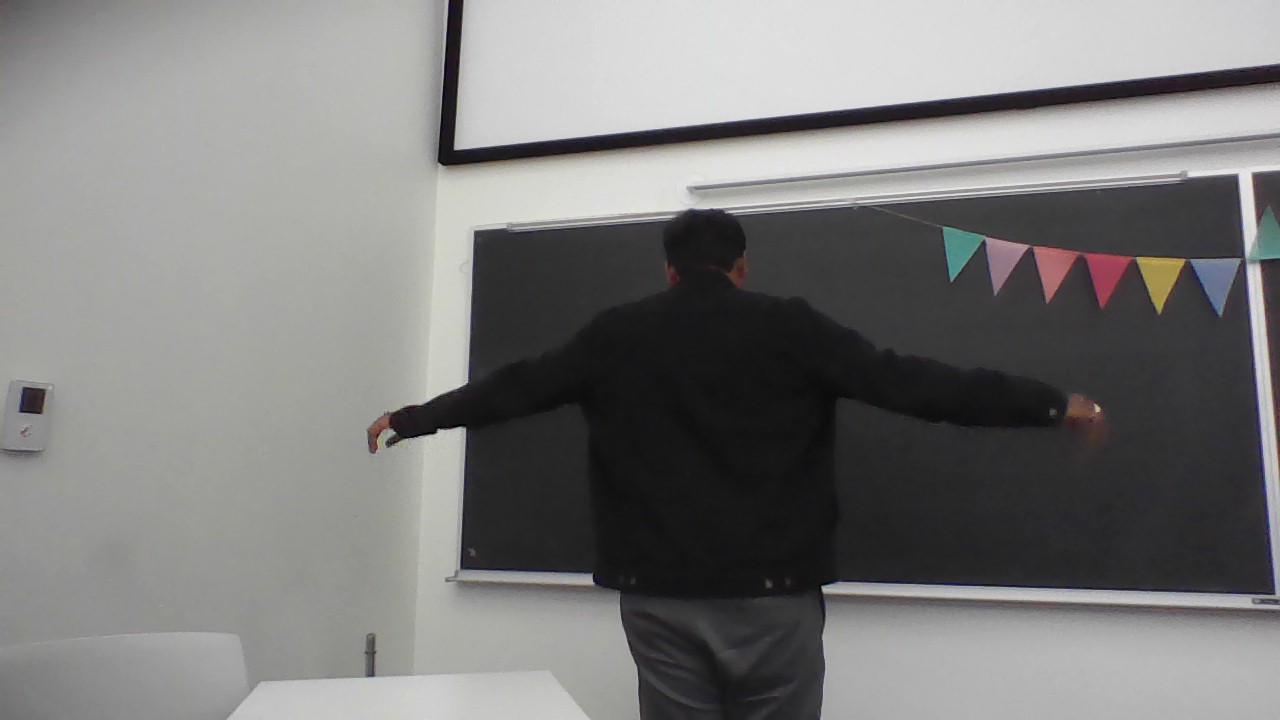height_frame: (561, 202, 857, 714)
hip_frame: (611, 582, 822, 604)
shoulder_frame: (592, 299, 813, 332)
waist_frame: (609, 492, 825, 522)
